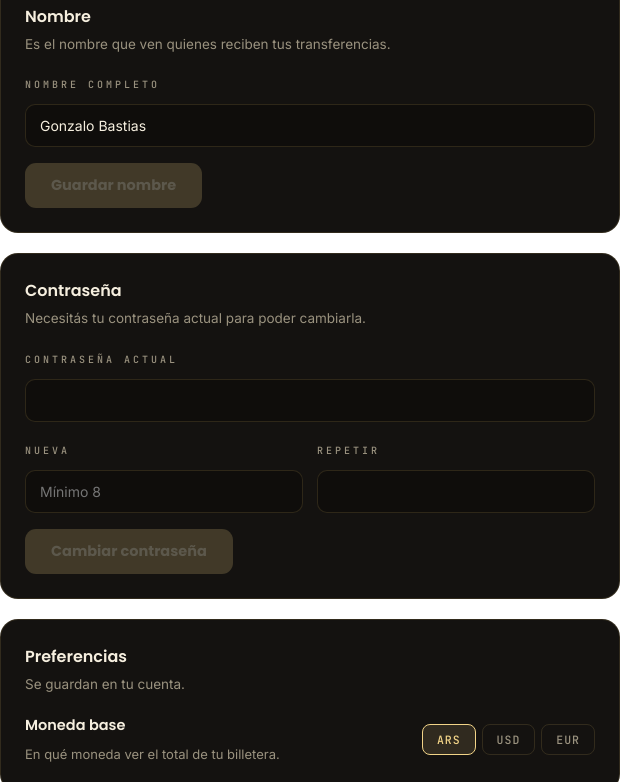
Test: Configuracion › muestra el error si la contraseña actual es incorrecta
(page scrolled)
In the password field labelled "Contraseña actual": (310, 400) [25,379,595,422], type "malísima"
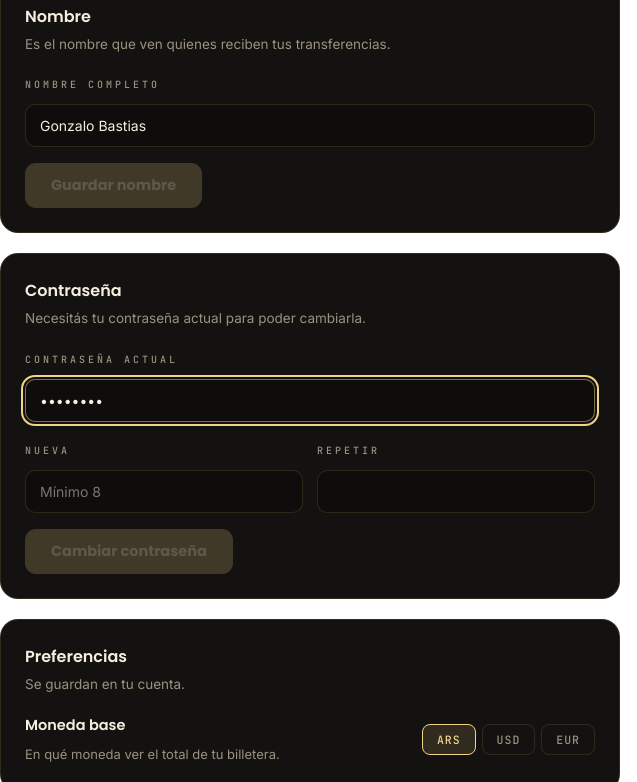
In the password field labelled "Nueva": (164, 491) [25,470,303,513], type "secreta123"
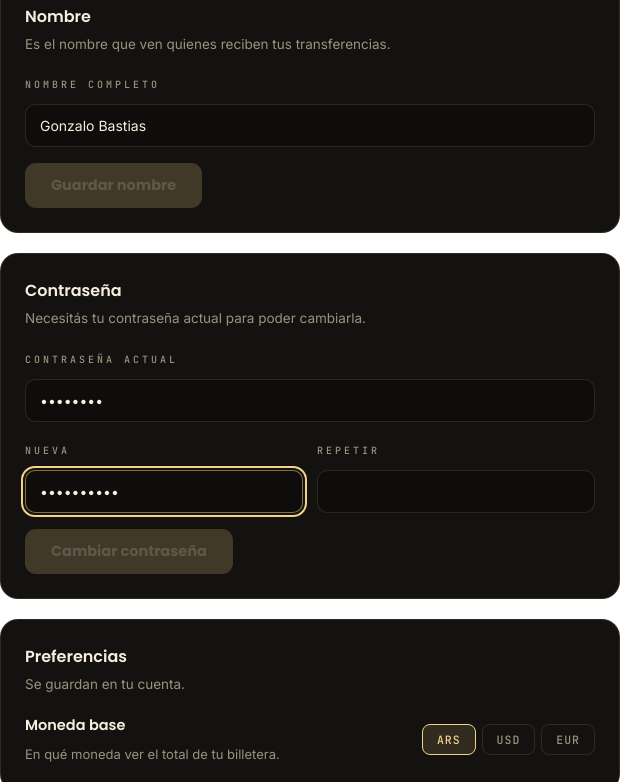
In the password field labelled "Repetir": (456, 491) [317,470,595,513], type "secreta123"
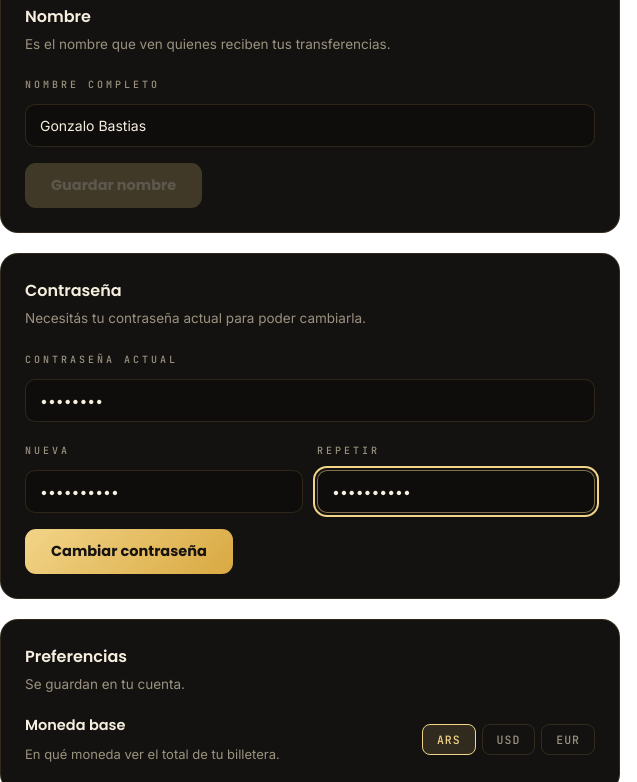
Click the button "Cambiar contraseña": (129, 551) [25,529,233,574]
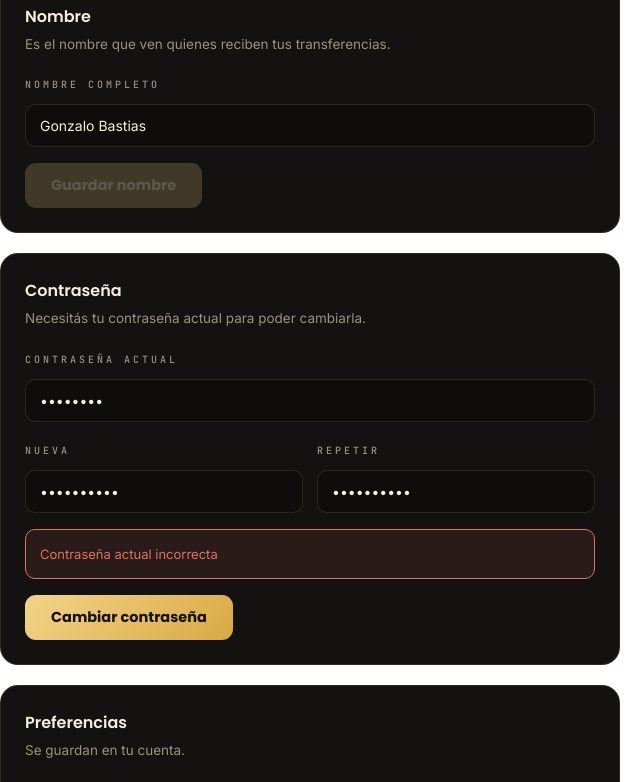
Result: the message reads "Contraseña actual incorrecta" at [40,546,218,562]
